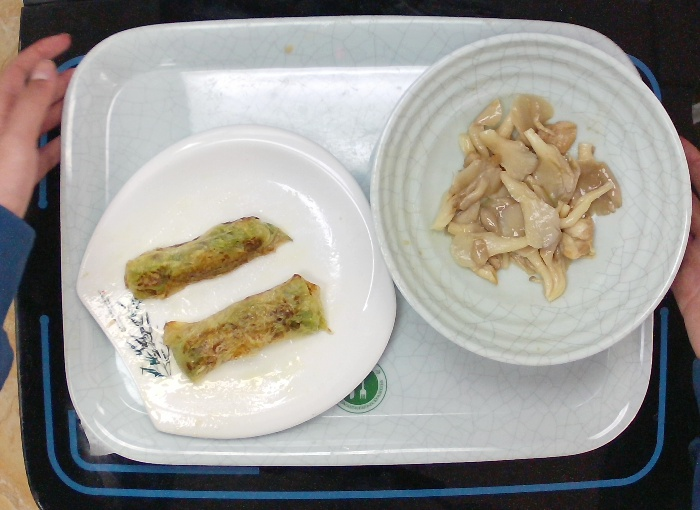JYsf-Da_Tang_Wan: (366, 24, 693, 373)
JYsf-Mian_Pan: (76, 115, 400, 445)
